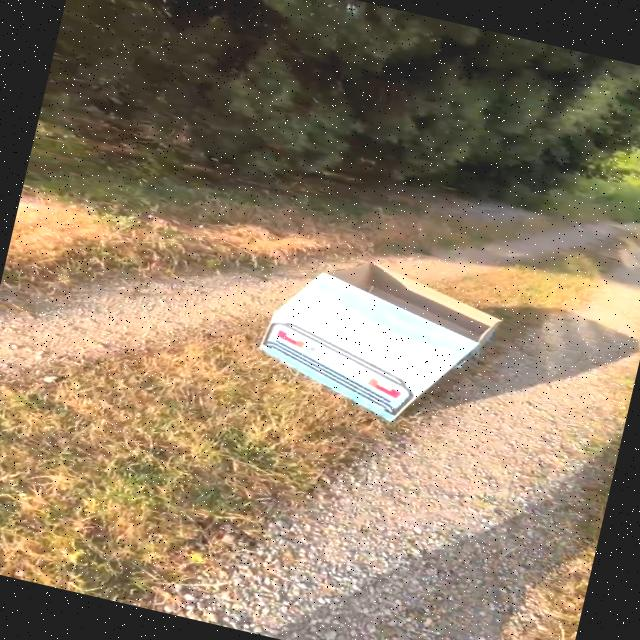blue_car: (216, 221, 539, 457)
